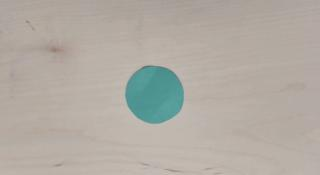Circle: (123, 65, 184, 127)
